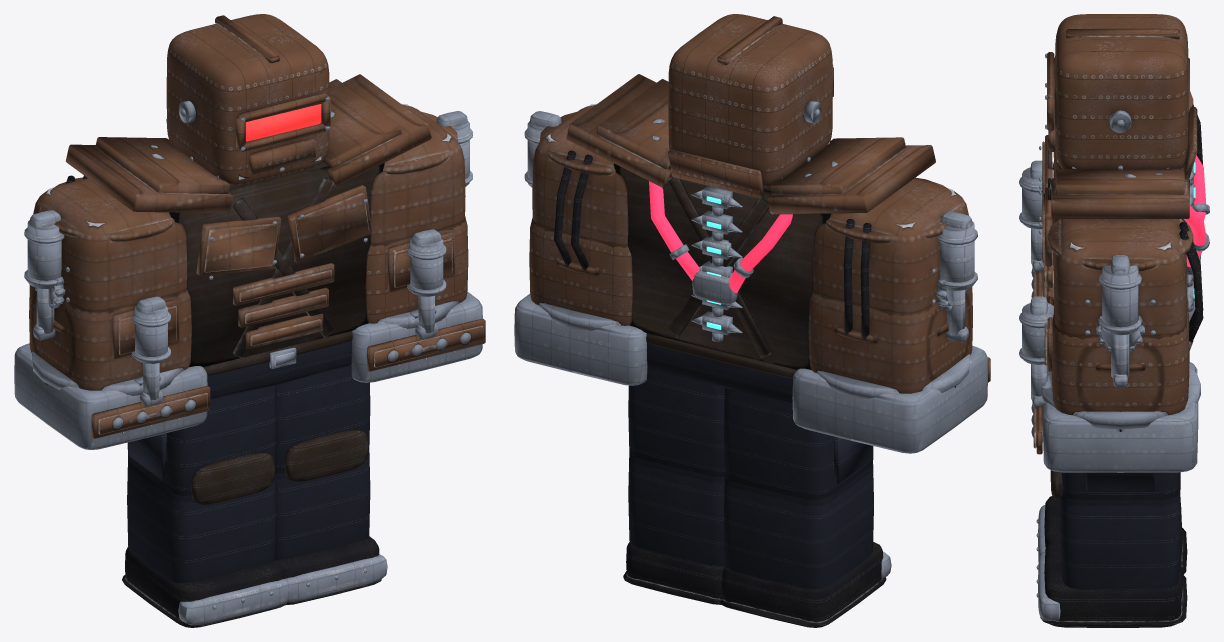
The model's file is remache.glb.
3 renders of one model, left to right at view 1: azimuth 30°, elevation 25°; view 2: azimuth 150°, elevation 25°; view 3: azimuth 270°, elevation 25°, orthographic.
Visible parts, largest first — view 1: Remache_Arnes_Oxido, Remache_Casco, Remache_Arnes, Remache_BrazoDer, Remache_PiernaDer, Remache_AntebrazoDer, Remache_PunoDer, Remache_BrazoIzq, Remache_MusloDer, Remache_PiernaIzq, Remache_MusloIzq, Remache_AntebrazoIzq (+16 smaller); view 2: Remache_Casco, Remache_Arnes, Remache_Arnes_Oxido, Remache_PiernaDer, Remache_BrazoDer, Remache_PunoDer, Remache_MusloDer, Remache_AntebrazoDer, Remache_PiernaIzq, Remache_MusloIzq, Remache_PunoIzq, Remache_BrazoIzq (+11 smaller); view 3: Remache_Casco, Remache_BrazoIzq, Remache_PiernaIzq, Remache_PunoIzq, Remache_AntebrazoIzq, Remache_Arnes_Oxido, Remache_BotaIzq, Remache_PistonBrazoIzq, Remache_MusloIzq, Remache_PistonAntebrazoIzq, Remache_PistonAntebrazoDer, Remache_Arnes_LiquidoRojo (+9 smaller).
Part boxes in pixels (x1,y1,x2,y2): Remache_Arnes_Oxido: [66, 74, 431, 349]; Remache_Casco: [166, 14, 330, 186]; Remache_Arnes: [169, 161, 384, 367]; Remache_BrazoDer: [33, 177, 187, 333]; Remache_PiernaDer: [127, 459, 275, 583]; Remache_AntebrazoDer: [29, 285, 191, 390]; Remache_PunoDer: [14, 343, 207, 449]; Remache_BrazoIzq: [370, 105, 465, 243]; Remache_MusloDer: [127, 385, 275, 495]; Remache_PiernaIzq: [275, 449, 370, 560]; Remache_MusloIzq: [275, 364, 370, 473]; Remache_AntebrazoIzq: [365, 216, 468, 323]; Remache_Casco: [668, 14, 833, 198]; Remache_Arnes: [614, 163, 831, 369]; Remache_Arnes_Oxido: [566, 74, 935, 214]; Remache_PiernaDer: [724, 463, 873, 589]; Remache_BrazoDer: [813, 177, 968, 343]; Remache_PunoDer: [792, 346, 987, 453]; Remache_MusloDer: [724, 388, 873, 500]; Remache_AntebrazoDer: [808, 287, 972, 393]; Remache_PiernaIzq: [628, 453, 724, 566]; Remache_MusloIzq: [628, 367, 724, 476]; Remache_PunoIzq: [514, 293, 647, 385]; Remache_BrazoIzq: [532, 105, 628, 275]; Remache_Casco: [1047, 14, 1197, 178]; Remache_BrazoIzq: [1047, 219, 1193, 372]; Remache_PiernaIzq: [1060, 479, 1180, 590]; Remache_PunoIzq: [1031, 362, 1200, 472]; Remache_AntebrazoIzq: [1044, 296, 1189, 431]; Remache_Arnes_Oxido: [1042, 57, 1189, 302]; Remache_BotaIzq: [1040, 540, 1187, 627]; Remache_PistonBrazoIzq: [1099, 255, 1141, 387]; Remache_MusloIzq: [1062, 472, 1179, 500]; Remache_PistonAntebrazoIzq: [1019, 296, 1053, 408]; Remache_PistonAntebrazoDer: [1019, 160, 1053, 272]; Remache_Arnes_LiquidoRojo: [1183, 155, 1206, 266].
Size of the model in its own units: 2.12 by 2.5 by 0.7845.
Materials: 40 (36 with a texture image).
